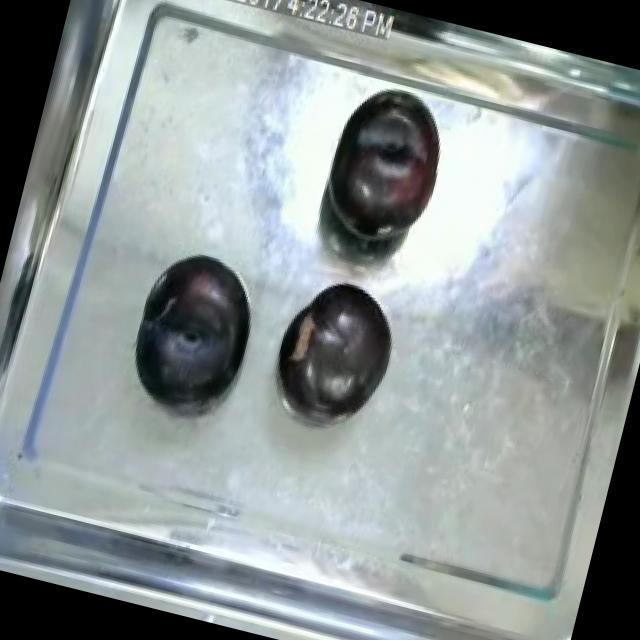Fruit: (115, 236, 274, 427), (310, 77, 460, 256), (260, 263, 410, 431)
